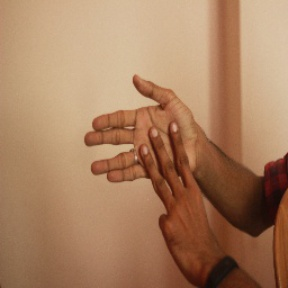M: (80, 72, 205, 219)
